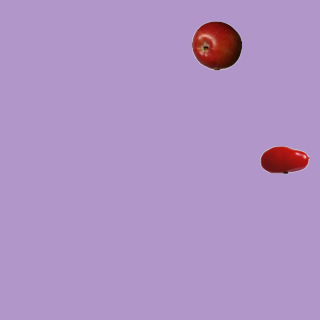Apple Braeburn: (191, 20, 241, 70)
Tomato 2: (259, 134, 309, 184)
